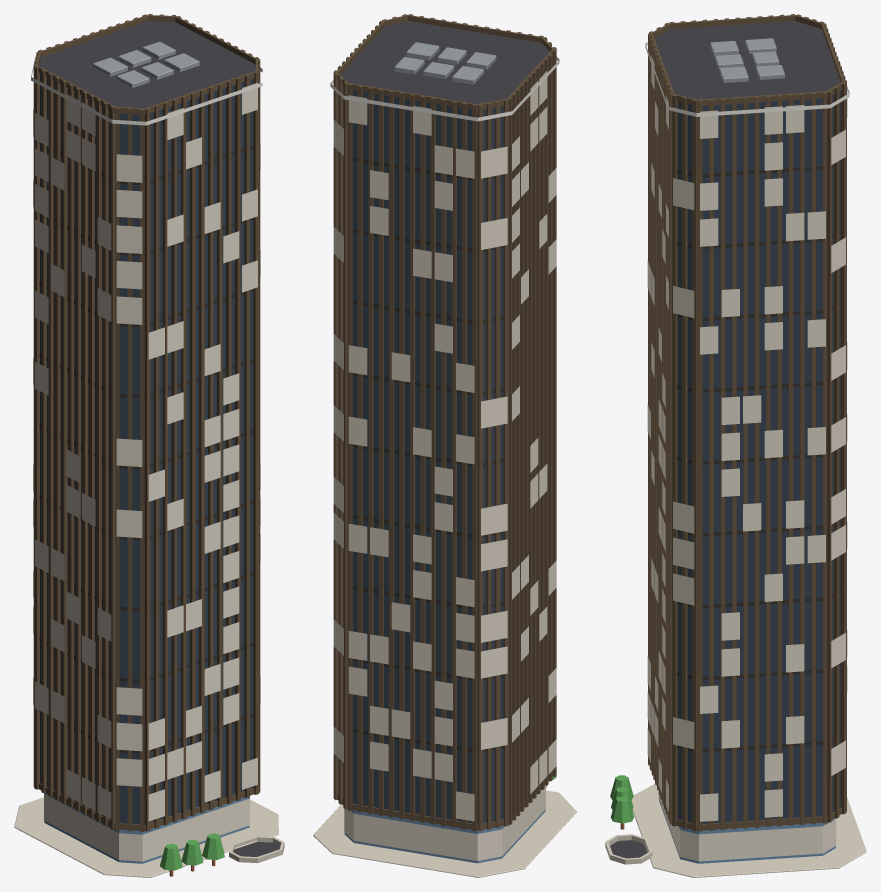
File: 1-post-street.glb
The picture shows the model from 3 angles, left to right: view 1: azimuth 30°, elevation 25°; view 2: azimuth 150°, elevation 25°; view 3: azimuth 270°, elevation 25°; orthographic projection.
Parts seen in each view (by area): view 1: 1-post-street_body, 1-post-street_night_glow; view 2: 1-post-street_body, 1-post-street_night_glow; view 3: 1-post-street_body, 1-post-street_night_glow.
Part boxes in pixels (x1=…): 1-post-street_body: x1=14, y1=14, x2=284, y2=877; 1-post-street_night_glow: x1=31, y1=63, x2=262, y2=861; 1-post-street_body: x1=313, y1=14, x2=576, y2=877; 1-post-street_night_glow: x1=330, y1=57, x2=559, y2=860; 1-post-street_body: x1=605, y1=14, x2=866, y2=877; 1-post-street_night_glow: x1=645, y1=42, x2=849, y2=861.
Bounding box in the file's own units: 46.81 × 161 × 49.68.
